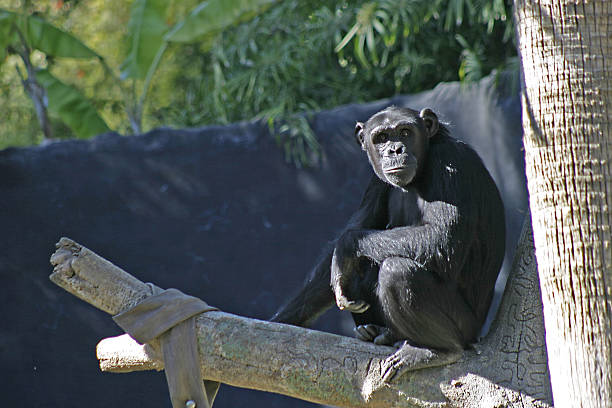chimpanzee: (330, 102, 443, 190)
